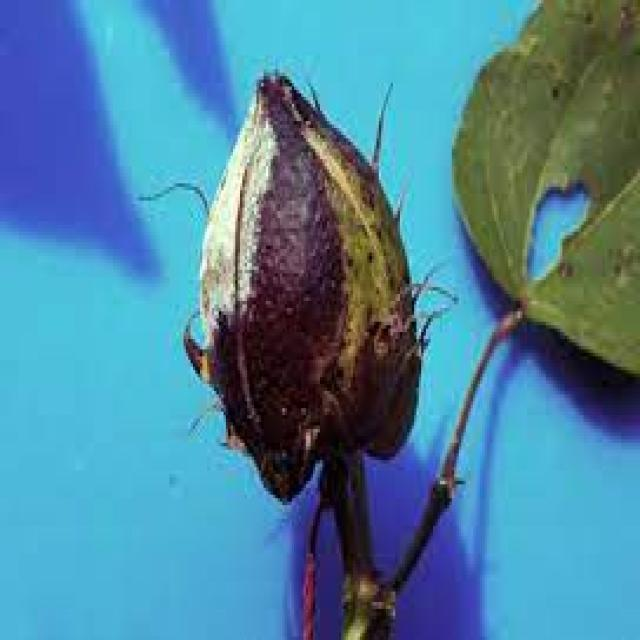Cotton Ball Rot: (179, 66, 435, 509)
Healthy: (450, 0, 638, 381)
